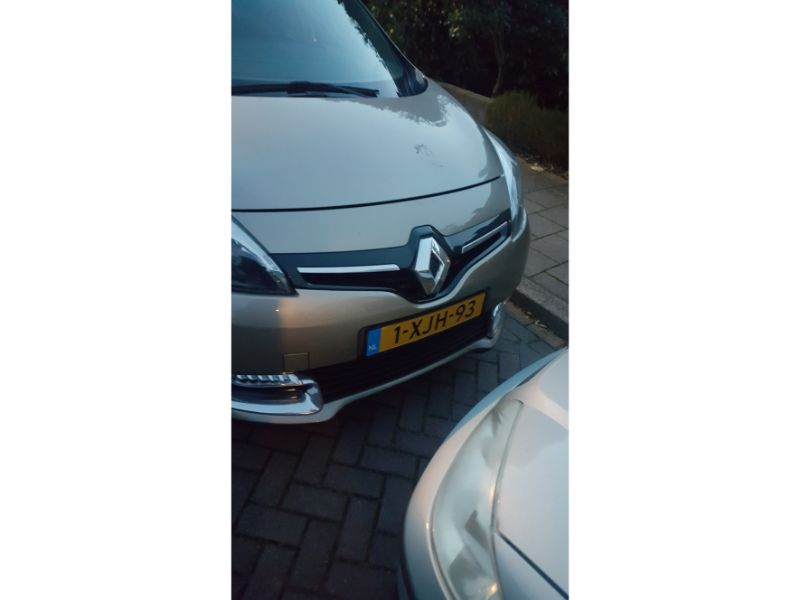kenteken: (353, 291, 489, 359)
